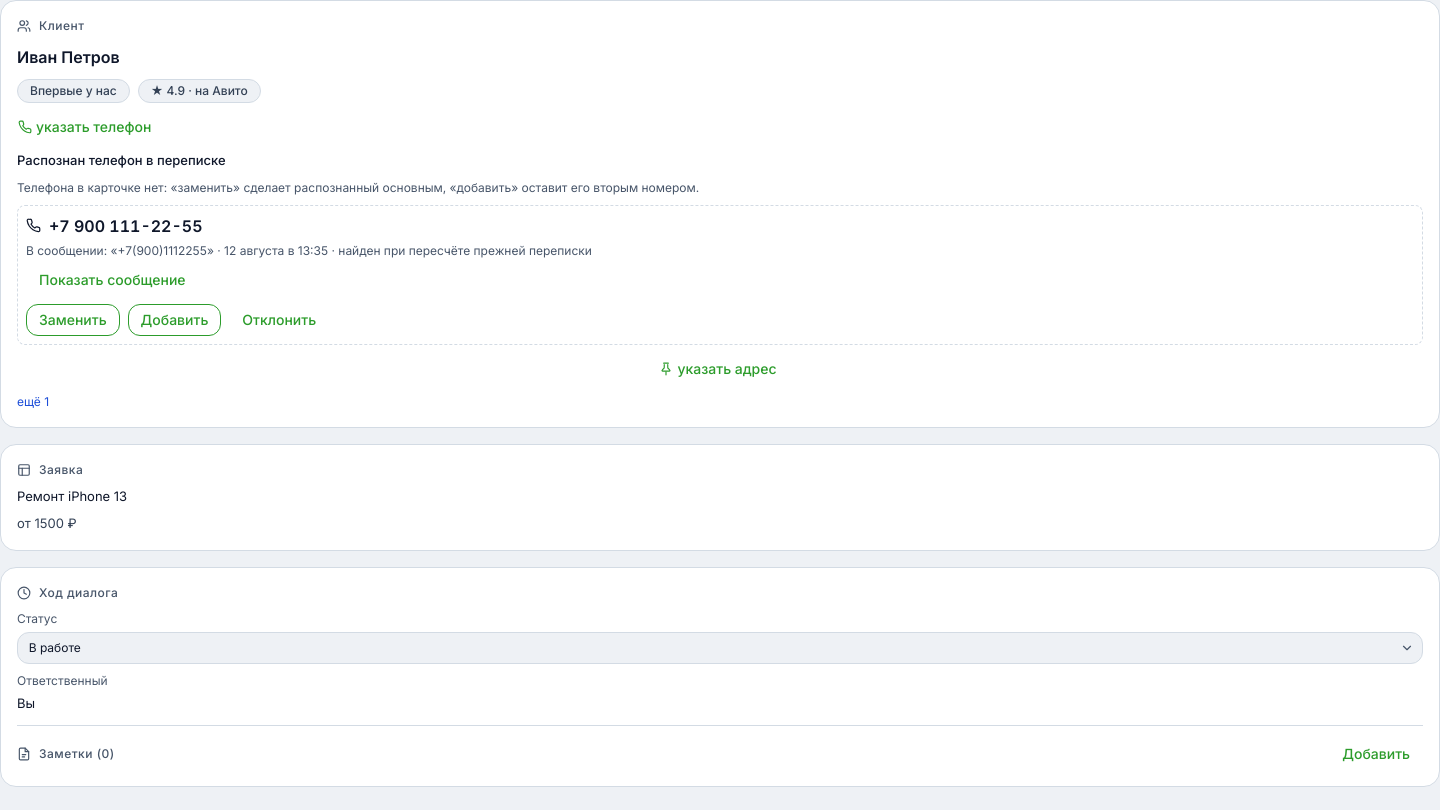
Test case: Карточка клиента — распознанный телефон › за лентой чужого диалога не ходим, пока не попросили
Expected: the text "Распознан телефон в переписке" is shown, x1=17 y1=152 x2=226 y2=168
Click the button "Показать сообщение" at point(112, 280), box x1=26 y1=264 x2=199 y2=296
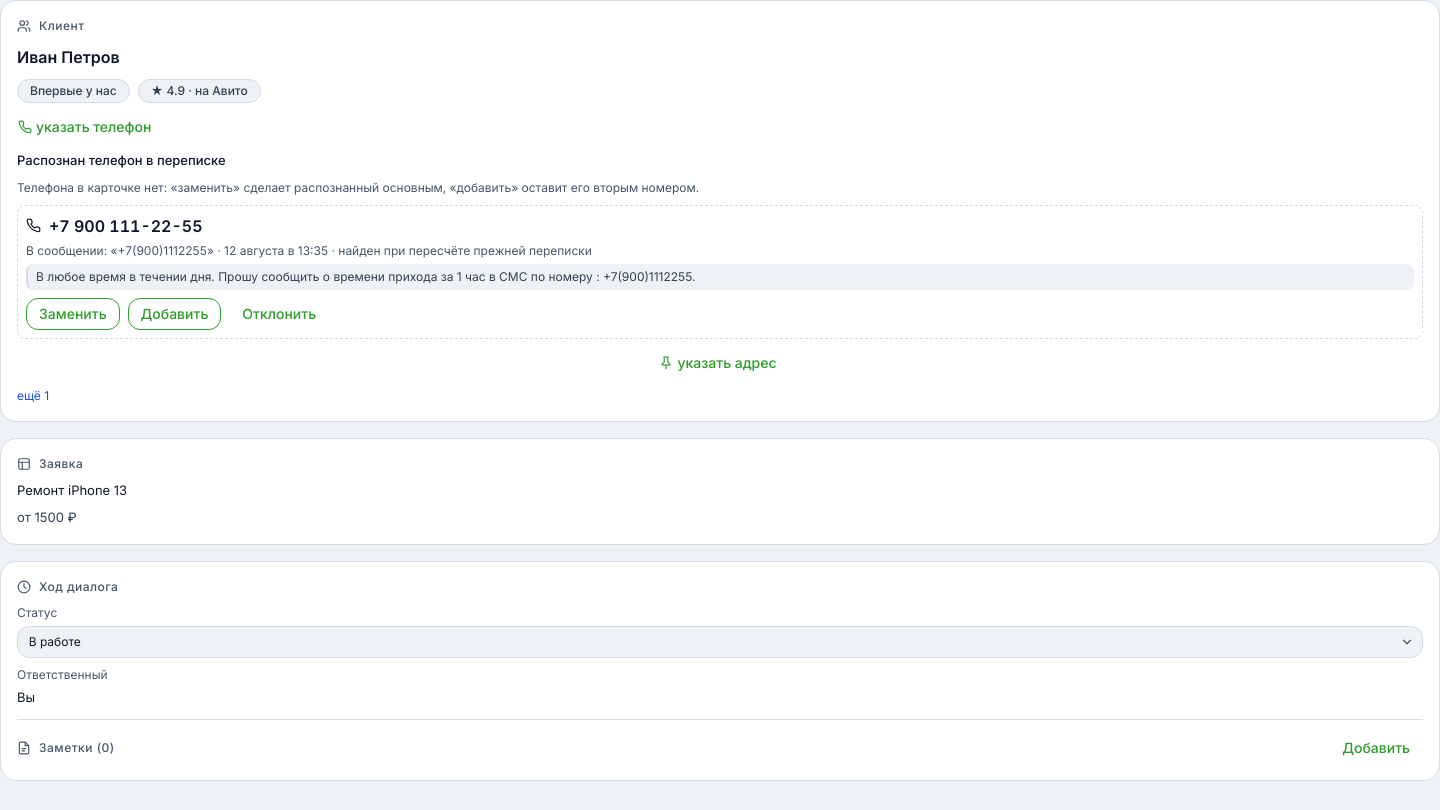
Expected: the text "В любое время в течении дня. Прошу сообщить о времени прихода за 1 час в СМС по номеру : +7(900)1112255." is shown, x1=36 y1=268 x2=696 y2=284
